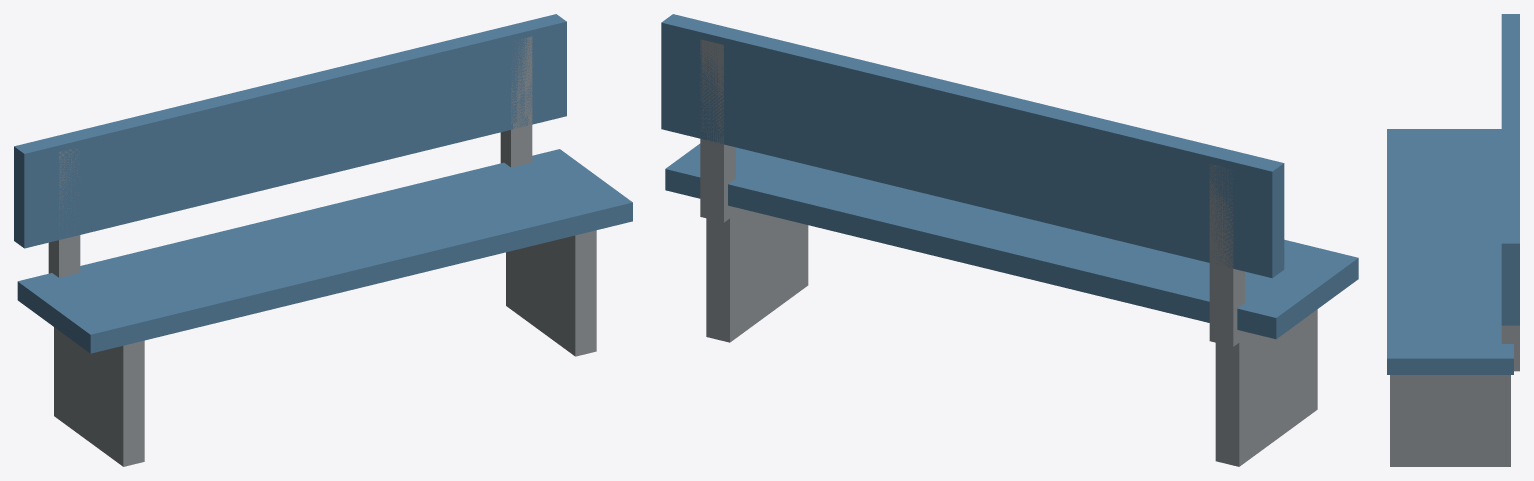
Rendered from bench.glb.
3 renders of one model, left to right at view 1: azimuth 30°, elevation 25°; view 2: azimuth 150°, elevation 25°; view 3: azimuth 270°, elevation 25°, orthographic. The views are drawn at different scales.
Parts seen in each view (by area): view 1: bench; view 2: bench; view 3: bench.
Part boxes in pixels (left/top/right/bottom): bench: left=14, top=14, right=632, bottom=466; bench: left=661, top=14, right=1358, bottom=466; bench: left=1387, top=14, right=1519, bottom=466.
Bounding box in the file's own units: 1.8 × 0.87 × 0.44.
